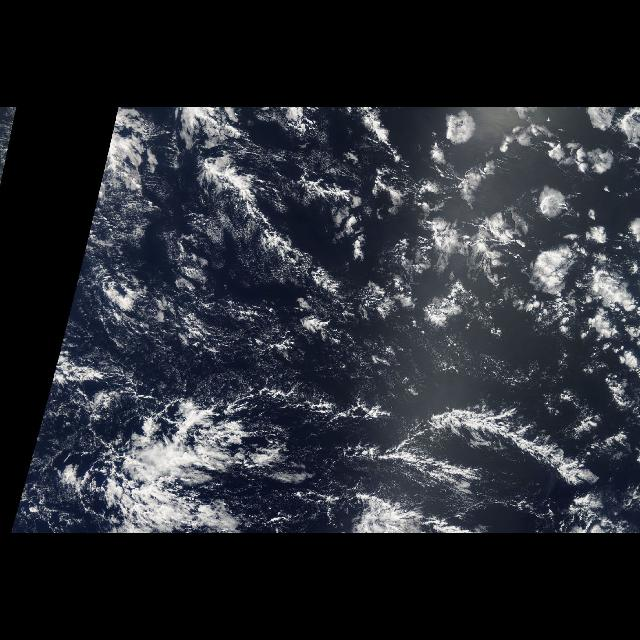Fish: (115, 111, 617, 534)
Flower: (176, 112, 640, 382)
Sugar: (317, 109, 633, 378), (125, 306, 312, 416)
